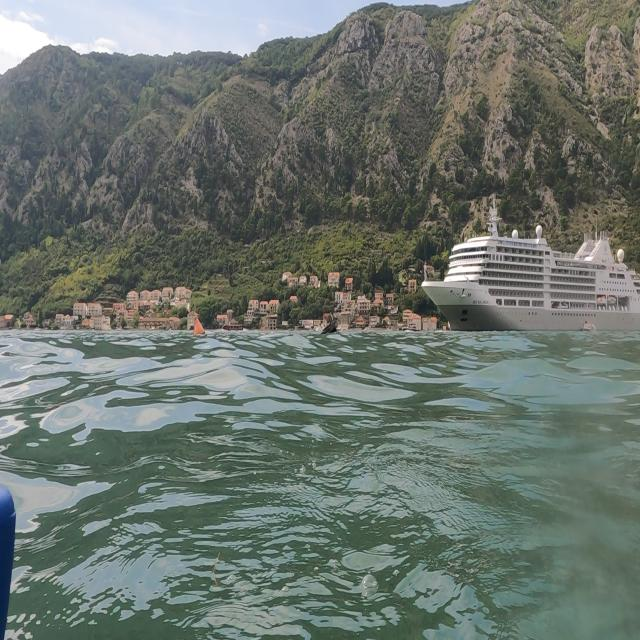boat: (420, 191, 638, 335)
buoy: (316, 314, 343, 346), (191, 310, 210, 348)
